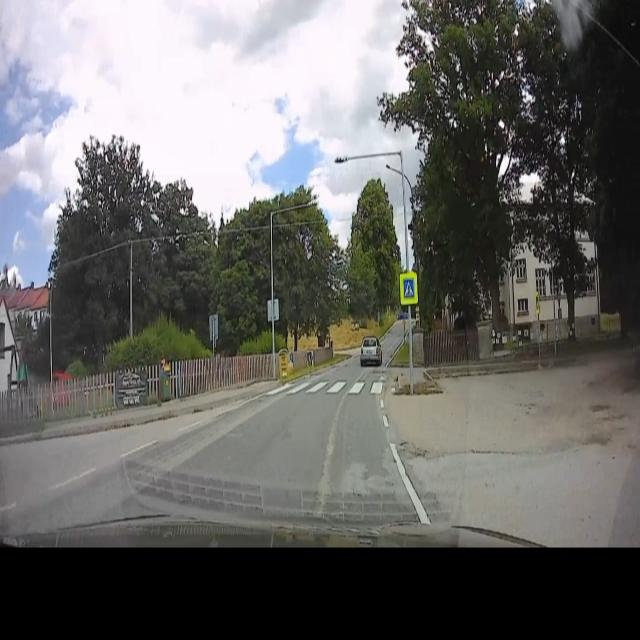Pedestrian crosswalk: (270, 374, 384, 401), (399, 271, 418, 304)
